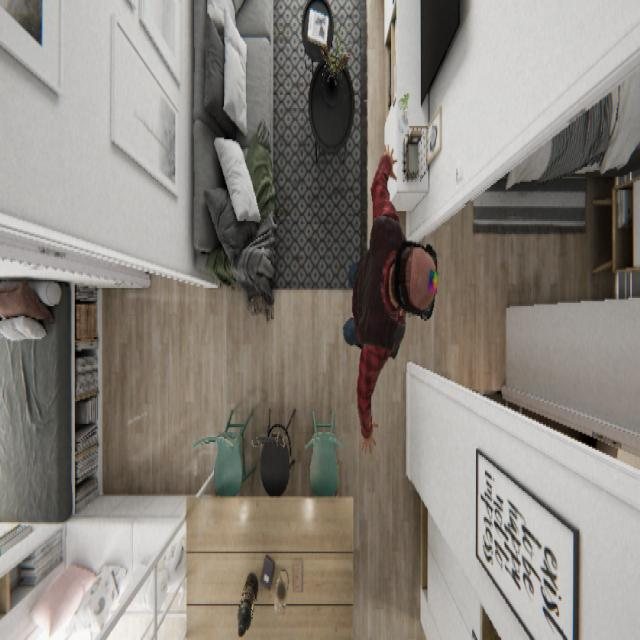Colored-Marker: (426, 265, 438, 295)
Human: (342, 142, 438, 454)
